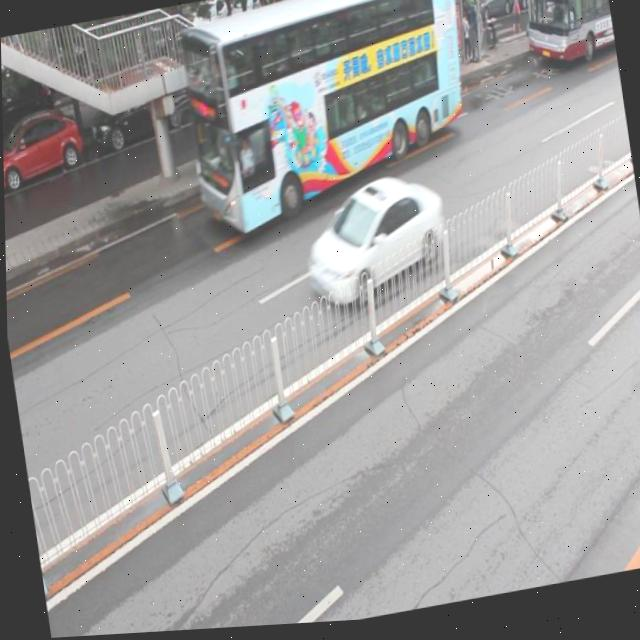car: (296, 170, 450, 316), (85, 69, 191, 148), (2, 100, 85, 188), (265, 14, 349, 86), (192, 36, 266, 112)
van: (173, 0, 481, 241), (517, 0, 616, 75)
